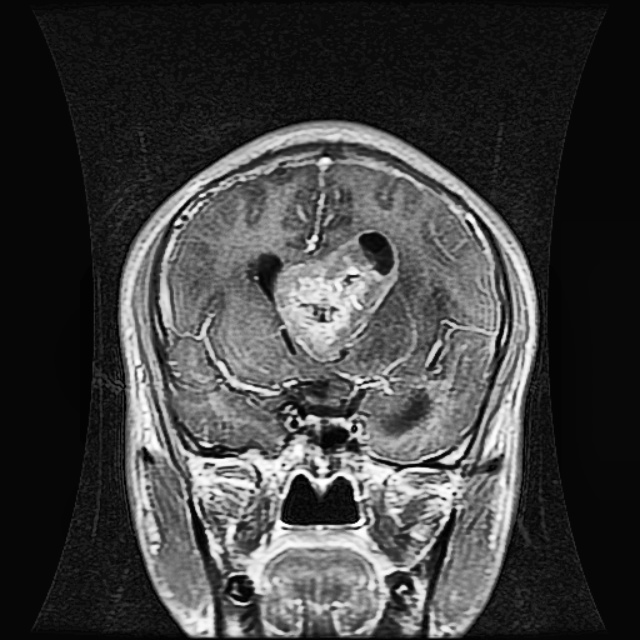Meningioma: (249, 228, 399, 360)
